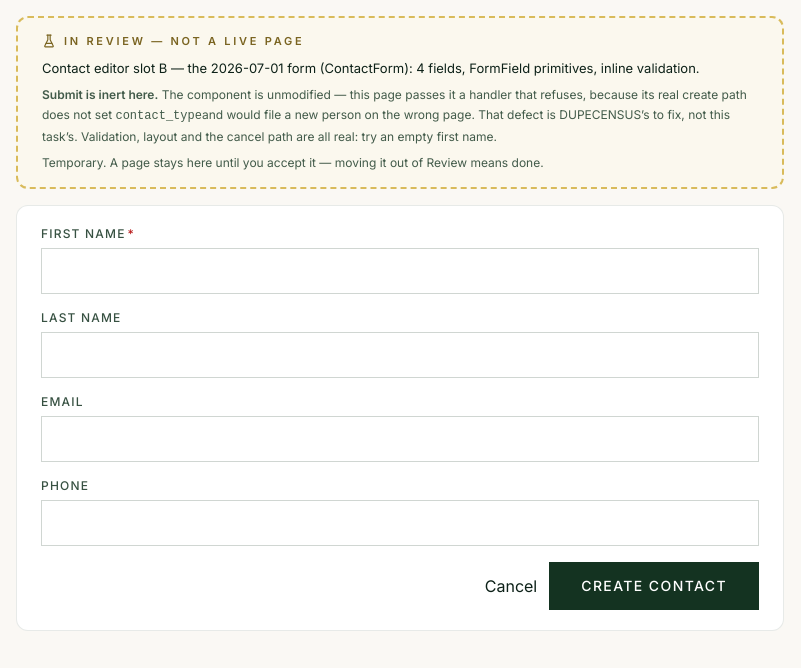
it: the four review-only mounts › Contact editor B — the form renders, and its submit is inert
Expected: the element with test id "review-banner" is shown, x1=16 y1=16 x2=784 y2=189
// the real component's own required-field validation still fires
Click the button "Create contact": coordinates (654, 586) x1=549 y1=562 x2=759 y2=610
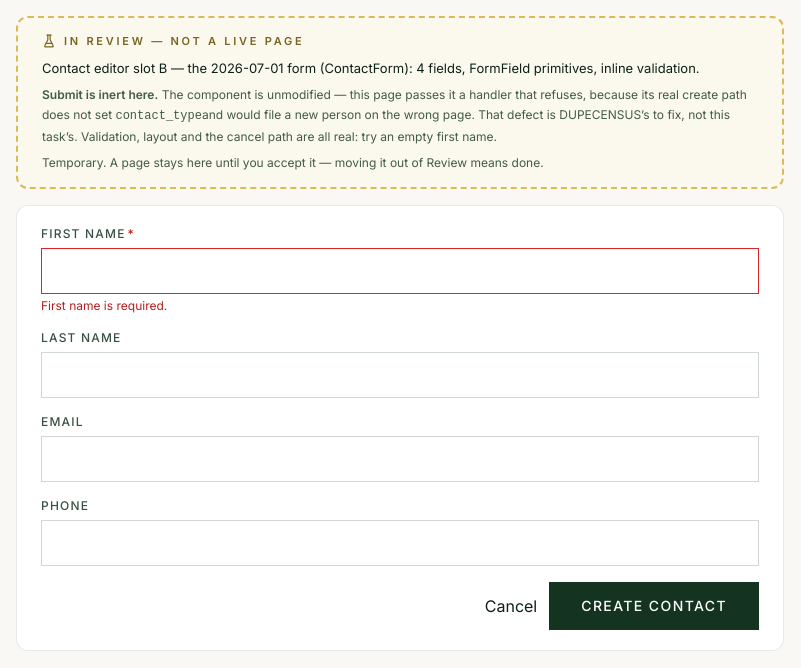
Now the text "First name is required." is shown, box x1=41 y1=298 x2=167 y2=313
